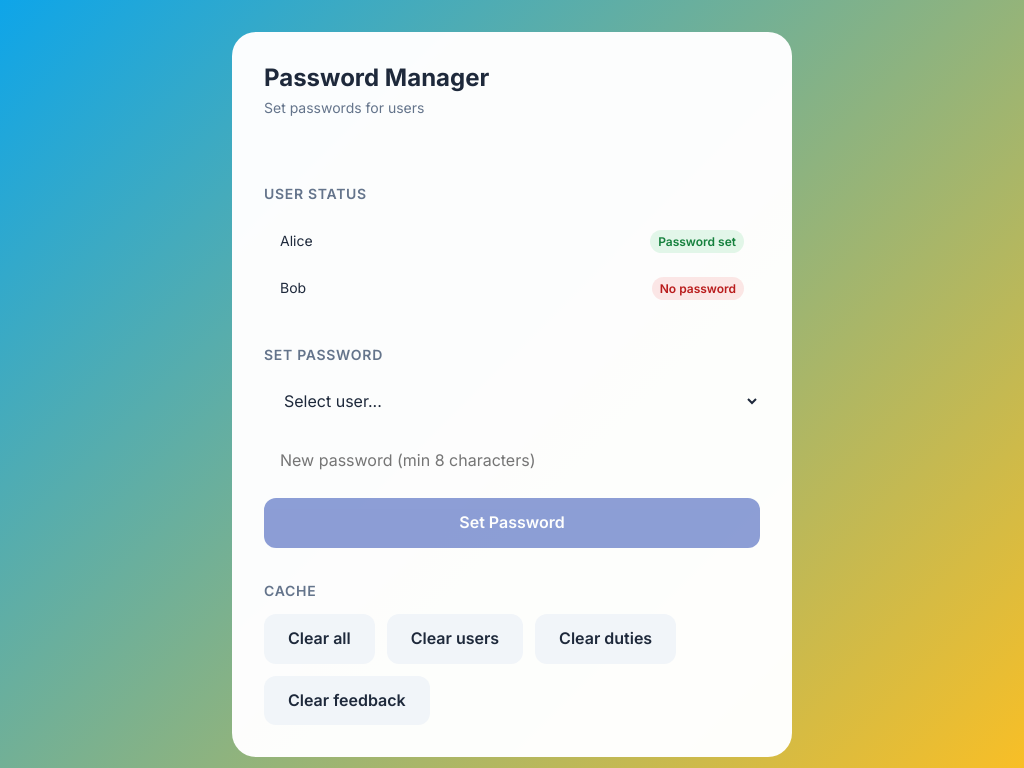
Test: AdminPasswords — set password form › shows an error when the password is too short
The width and height of the screenshot is (1024, 768).
Expected: the text "Password set" is shown, [650,230,744,253]
Step 1. Select "Bob" in the dropdown → (512, 401), box [264,378,760,424]
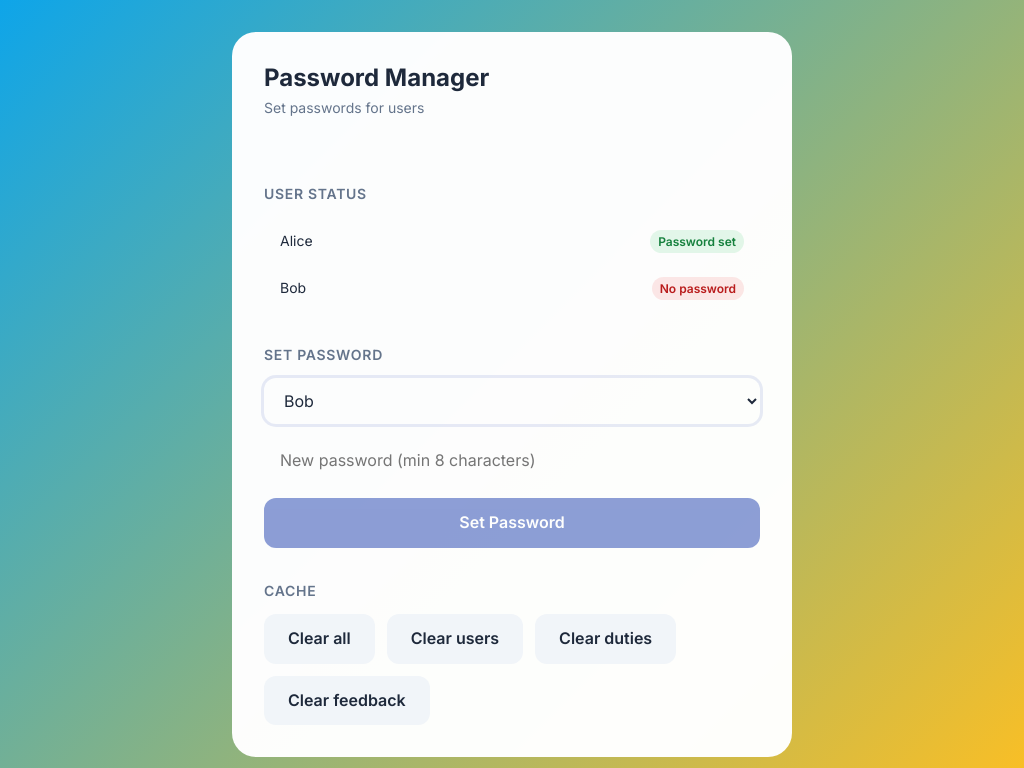
Step 2. Type "short" into the password field with placeholder "New password (min 8 characters)" → (512, 461), box [264,436,760,486]
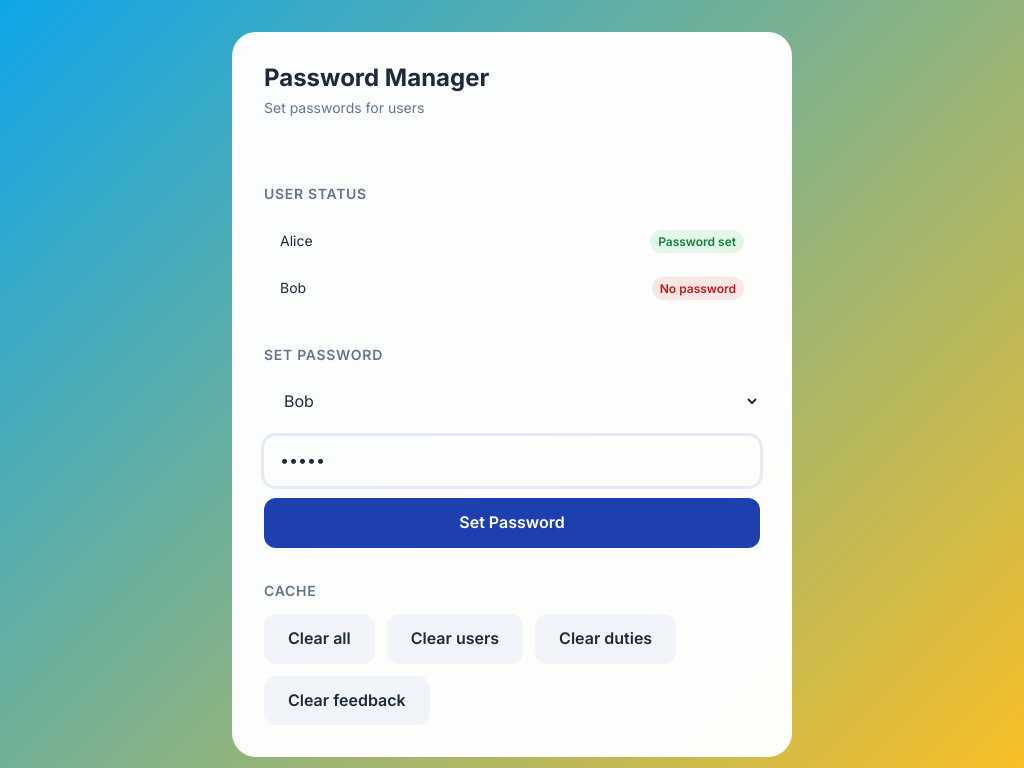
Step 3. Click the button "Set Password" → (512, 523), box [264,498,760,548]
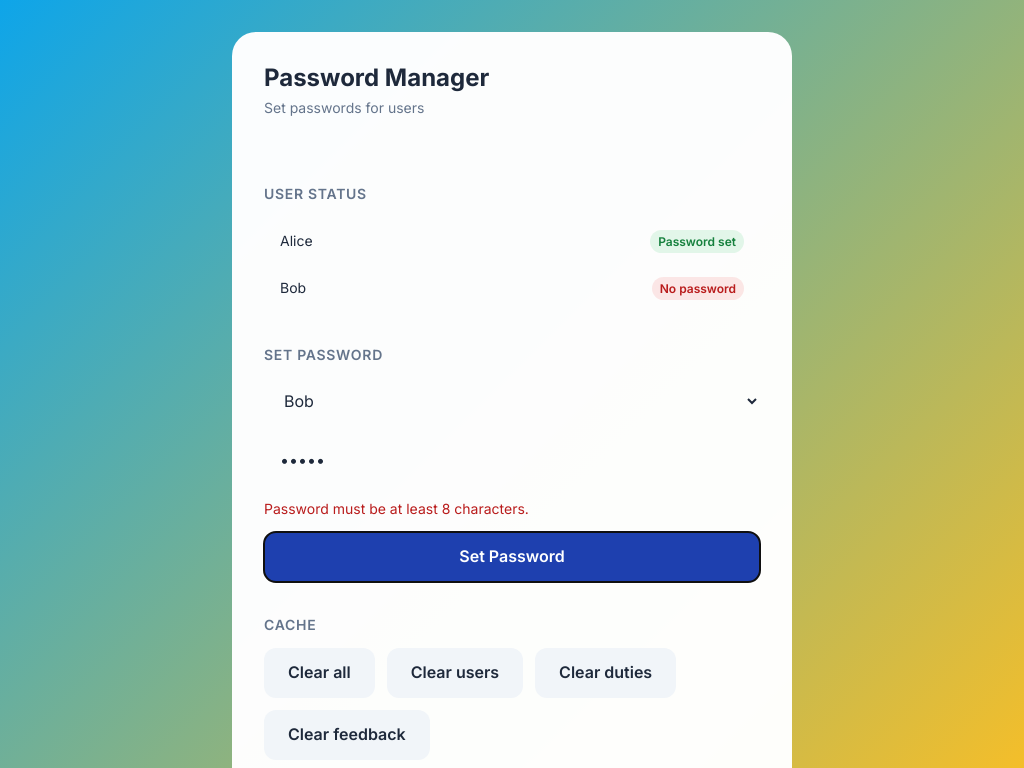
Now the text "Password must be at least 8 characters." is shown, box [264,500,529,517]
